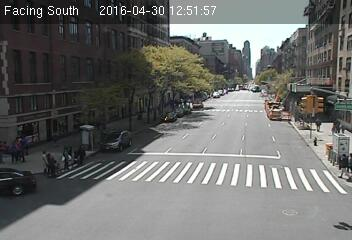neg: (223, 124, 245, 153), (135, 117, 150, 137), (193, 164, 207, 182), (181, 107, 194, 124), (205, 55, 217, 72), (99, 92, 111, 108), (155, 57, 167, 73), (266, 101, 275, 114), (259, 78, 268, 90), (123, 69, 130, 79), (241, 66, 248, 76)
pos: (1, 132, 26, 166), (33, 144, 58, 176), (309, 113, 329, 139), (57, 144, 76, 169), (337, 152, 351, 176), (328, 116, 344, 137)
